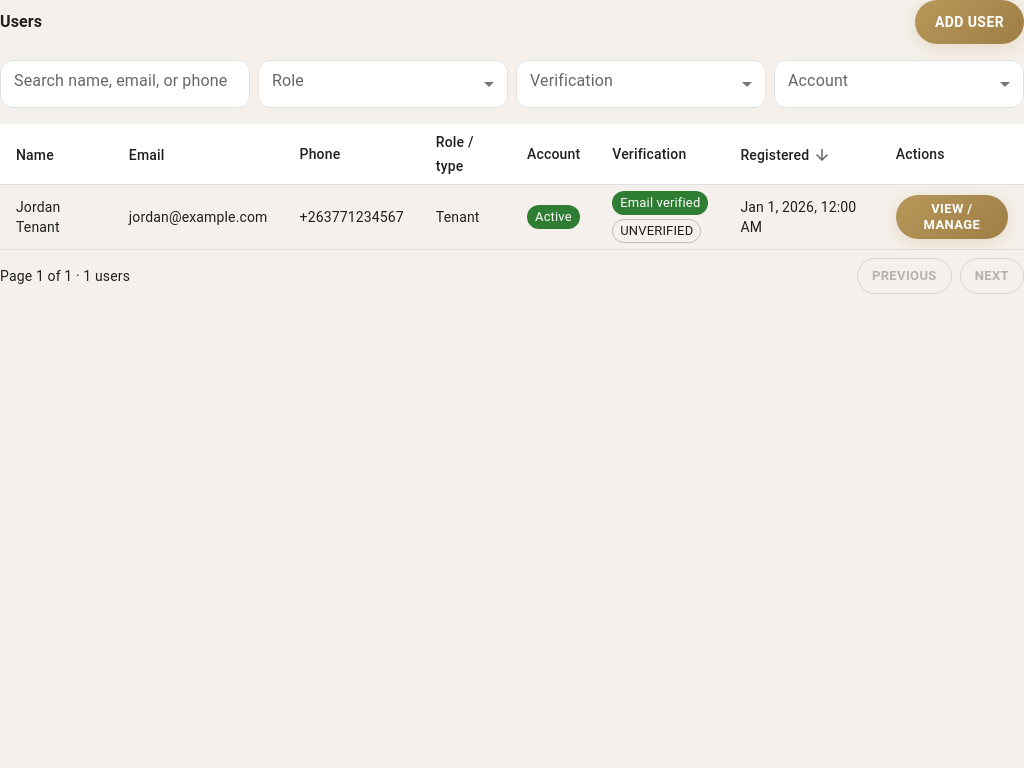
Test: AdminUsers › opens the user details tabs and shows an empty activity state
Click the button "View / Manage". click: (952, 217)
box: [896,195,1008,239]
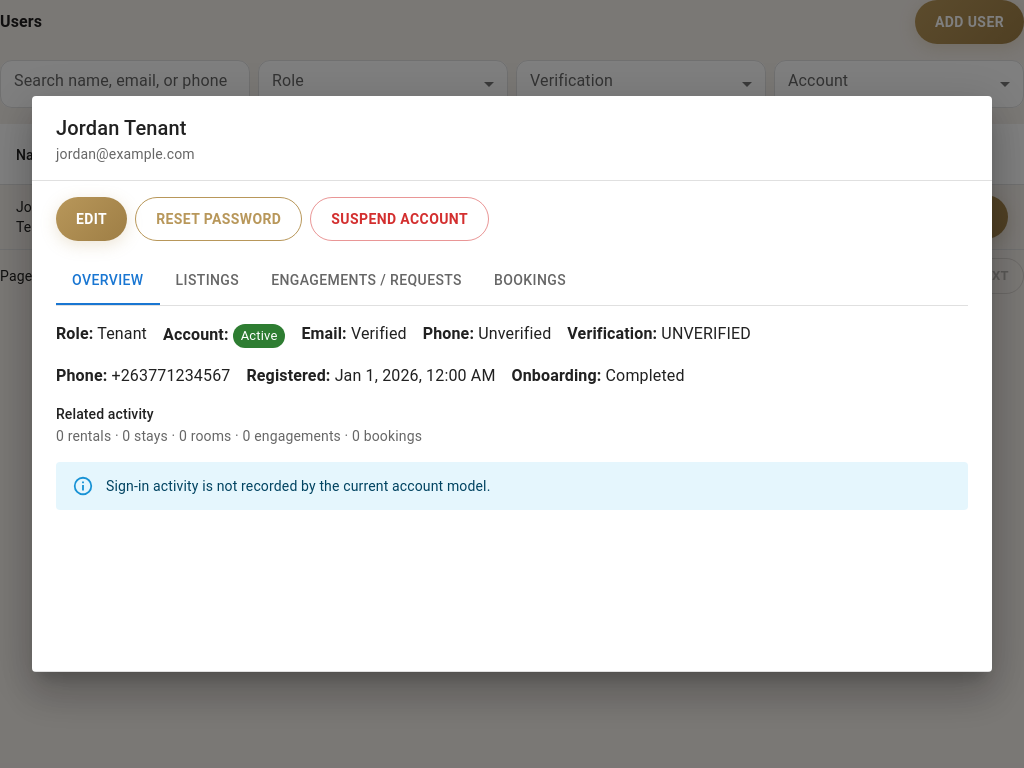
Now the heading "Related activity" is shown, box [56,406,154,422]
Click the tab "Engagements / requests". click: (367, 281)
box: [255,257,478,305]
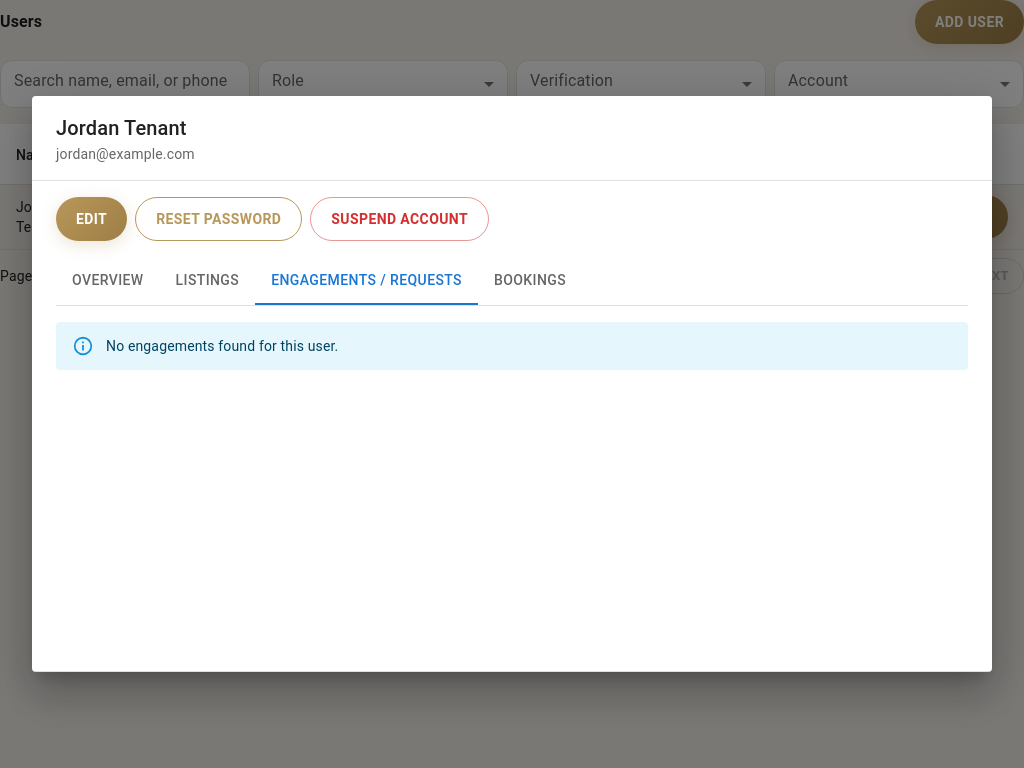
Now the text "No engagements found for this user." is shown, box [106,338,338,354]
